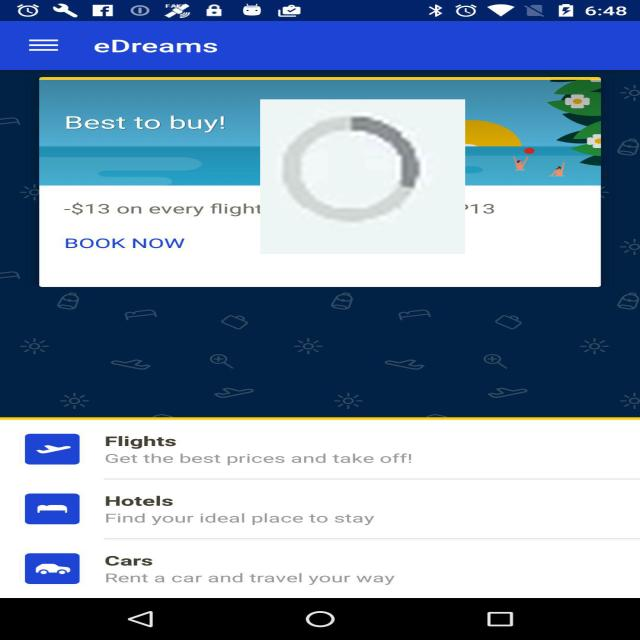misdirection: (260, 99, 465, 254)
